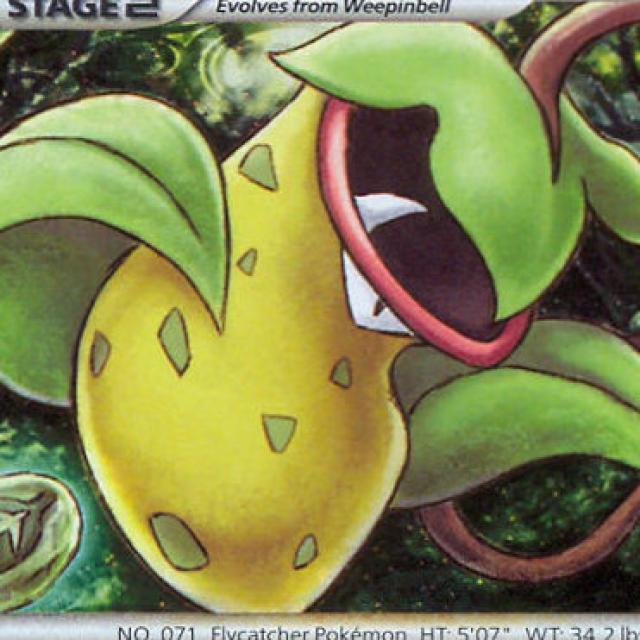Victreebel: (19, 16, 640, 606)
